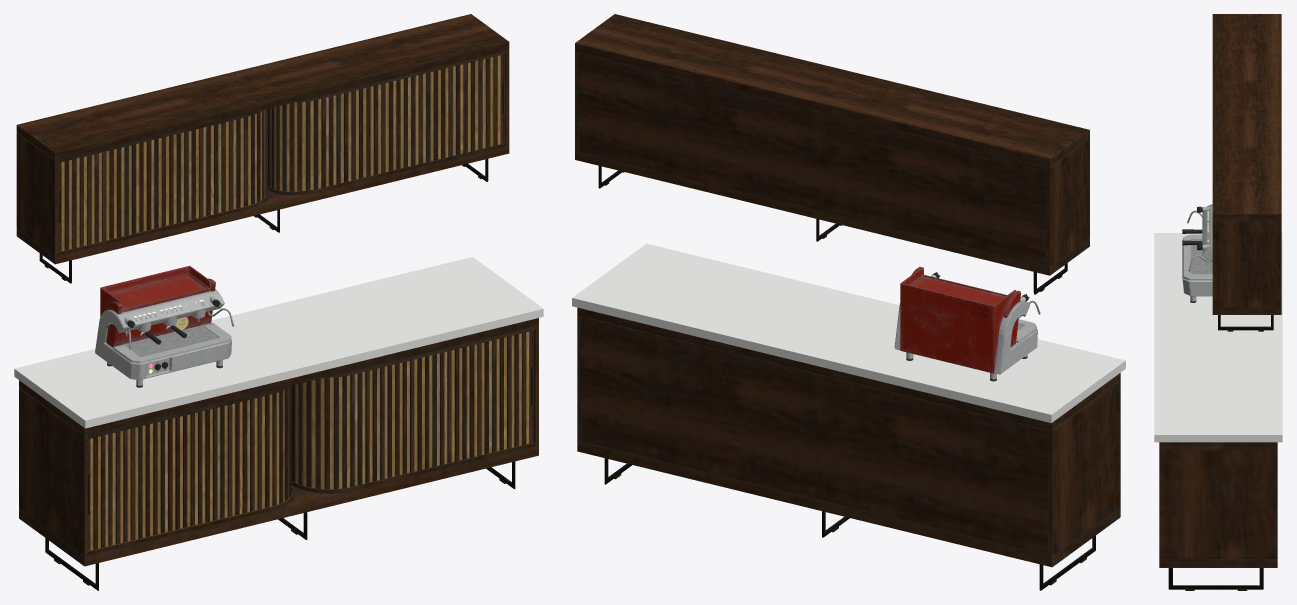
Rendered from kitchenette_counter.glb.
The picture shows the model from 3 angles, left to right: view 1: azimuth 30°, elevation 25°; view 2: azimuth 150°, elevation 25°; view 3: azimuth 270°, elevation 25°; orthographic projection. The views are drawn at different scales.
Visible parts, largest first — view 1: modern_wooden_cabinet_2_n1, simple_c0, modern_wooden_cabinet_0_n0, modern_wooden_cabinet_2_n0, modern_wooden_cabinet_1_n0, modern_wooden_cabinet_0_n1, modern_wooden_cabinet_1_n1, espresso_machine_0_n2, espresso_machine_1_n2, espresso_machine_28_n2, espresso_machine_30_n2; view 2: modern_wooden_cabinet_2_n0, modern_wooden_cabinet_2_n1, simple_c0, espresso_machine_1_n2, espresso_machine_0_n2; view 3: modern_wooden_cabinet_2_n1, simple_c0, modern_wooden_cabinet_2_n0, espresso_machine_0_n2, espresso_machine_28_n2.
Part boxes in pixels (bbox=[...]): modern_wooden_cabinet_2_n1: bbox=[16, 14, 509, 283]; simple_c0: bbox=[14, 257, 543, 428]; modern_wooden_cabinet_0_n0: bbox=[291, 330, 533, 489]; modern_wooden_cabinet_2_n0: bbox=[19, 318, 538, 590]; modern_wooden_cabinet_1_n0: bbox=[88, 385, 291, 550]; modern_wooden_cabinet_0_n1: bbox=[268, 54, 504, 191]; modern_wooden_cabinet_1_n1: bbox=[58, 109, 267, 251]; espresso_machine_0_n2: bbox=[95, 289, 231, 379]; espresso_machine_1_n2: bbox=[100, 265, 211, 316]; espresso_machine_28_n2: bbox=[113, 323, 231, 363]; espresso_machine_30_n2: bbox=[106, 278, 215, 347]; modern_wooden_cabinet_2_n0: bbox=[577, 307, 1120, 590]; modern_wooden_cabinet_2_n1: bbox=[575, 14, 1089, 294]; simple_c0: bbox=[572, 243, 1125, 422]; espresso_machine_1_n2: bbox=[900, 267, 1016, 373]; espresso_machine_0_n2: bbox=[894, 300, 1037, 374]; modern_wooden_cabinet_2_n1: bbox=[1212, 14, 1281, 331]; simple_c0: bbox=[1154, 233, 1282, 442]; modern_wooden_cabinet_2_n0: bbox=[1159, 442, 1277, 590]; espresso_machine_0_n2: bbox=[1182, 204, 1212, 296]; espresso_machine_28_n2: bbox=[1183, 234, 1212, 280].
Bounding box in the file's own units: 2.42 × 2.15 × 0.65.
3 materials, 2 textured.
